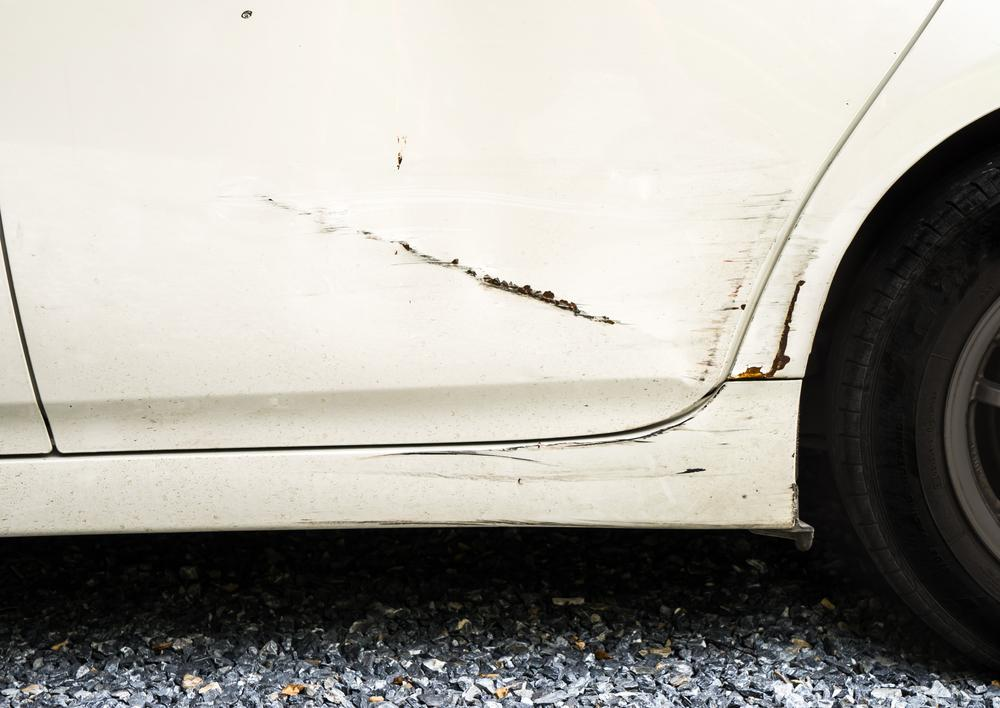scratch: (268, 186, 800, 382), (370, 385, 753, 488), (735, 236, 830, 380)
